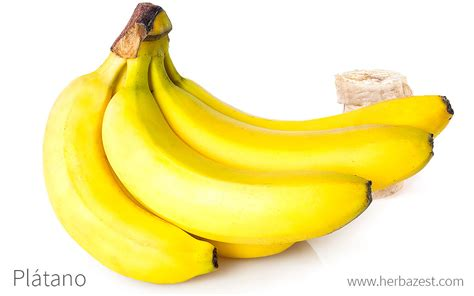banana: (100, 86, 376, 246), (41, 70, 226, 283), (152, 81, 440, 188)
